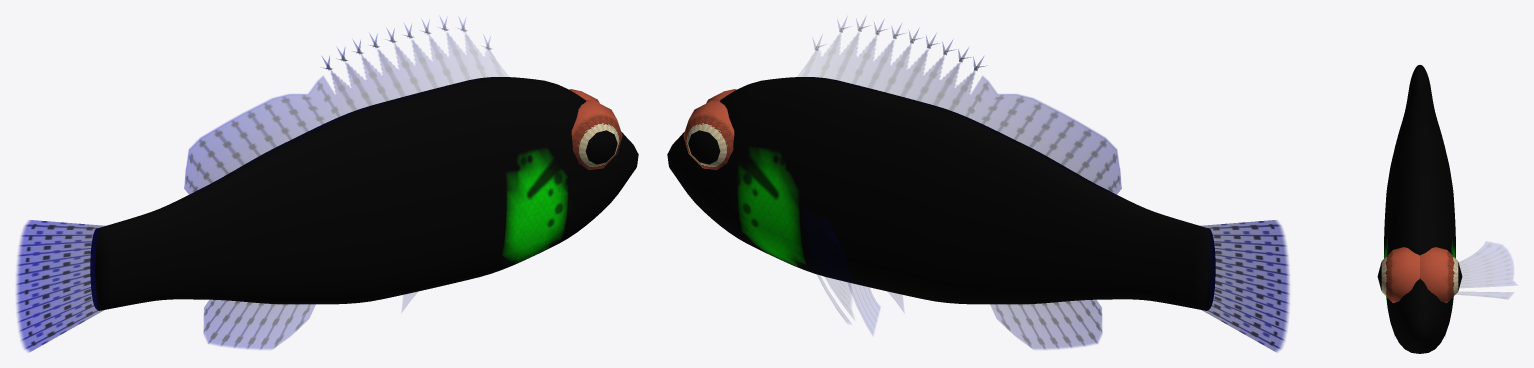
Rendered from hawkfish.glb.
3 views of the same model, side by side, from view 1: azimuth 30°, elevation 25°; view 2: azimuth 150°, elevation 25°; view 3: azimuth 270°, elevation 25° (orthographic). The views are drawn at different scales.
Visible parts, largest first — view 1: Body, FinDorsal, FinCaudal, FinAnal, EyeR; view 2: Body, FinDorsal, FinCaudal, FinAnal, EyeL, FinPectoralL, FinPelvicL; view 3: Body, FinPectoralL, EyeL, EyeR.
Part boxes in pixels (x1,y1,x2,y2): Body: [90, 77, 638, 310]; FinDorsal: [184, 17, 503, 195]; FinCaudal: [16, 220, 106, 352]; FinAnal: [203, 300, 315, 349]; EyeR: [571, 99, 622, 170]; Body: [667, 77, 1215, 310]; FinDorsal: [802, 17, 1121, 195]; FinCaudal: [1199, 220, 1289, 352]; FinAnal: [990, 300, 1102, 349]; EyeL: [683, 99, 734, 170]; FinPectoralL: [802, 203, 852, 322]; FinPelvicL: [849, 282, 879, 334]; Body: [1384, 65, 1455, 353]; FinPectoralL: [1457, 242, 1515, 298]; EyeL: [1420, 247, 1462, 302]; EyeR: [1377, 247, 1419, 302].
Size of the model in its own units: 1 by 0.4726 by 0.3319.
4 materials, 3 textured.
